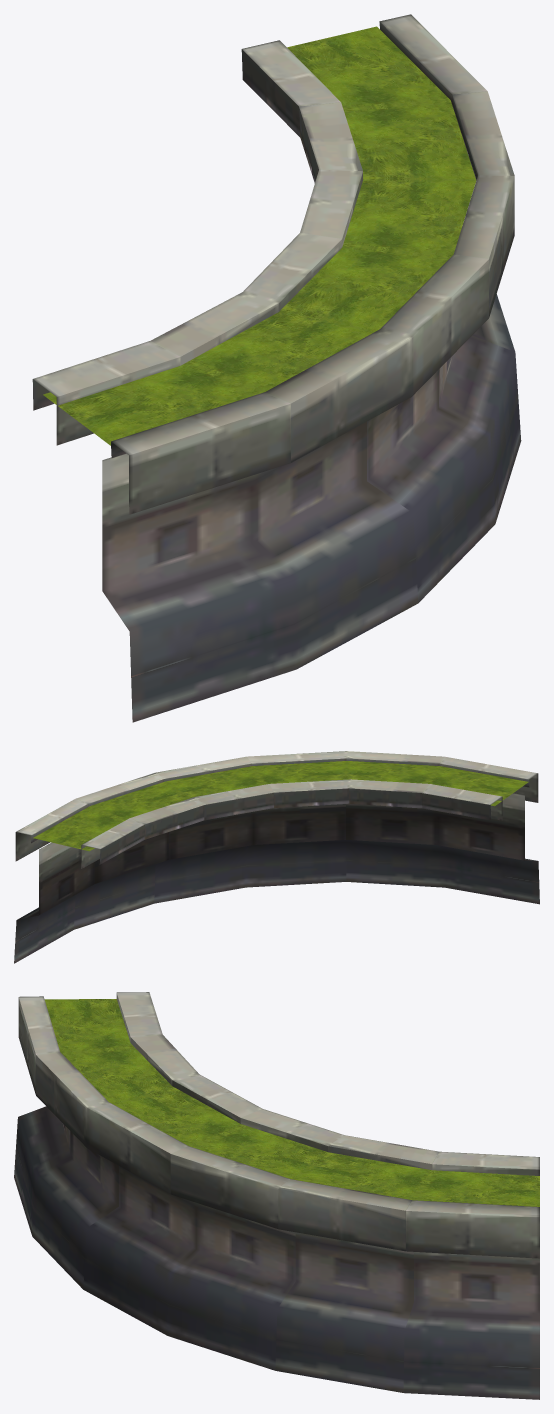
The model's file is S_Build_City128.FBX.
The picture shows the model from 3 angles, top to bottom: view 1: azimuth 30°, elevation 25°; view 2: azimuth 150°, elevation 25°; view 3: azimuth 270°, elevation 25°; orthographic projection. The views are drawn at different scales.
Visible parts, largest first — view 1: S_Build_City128; view 2: S_Build_City128; view 3: S_Build_City128.
Part boxes in pixels (box(x1,y1,x2,y2)): S_Build_City128: box(32, 14, 521, 722); S_Build_City128: box(14, 751, 539, 963); S_Build_City128: box(14, 992, 539, 1399).
Size of the model in its own units: 1211 by 470 by 1210.
